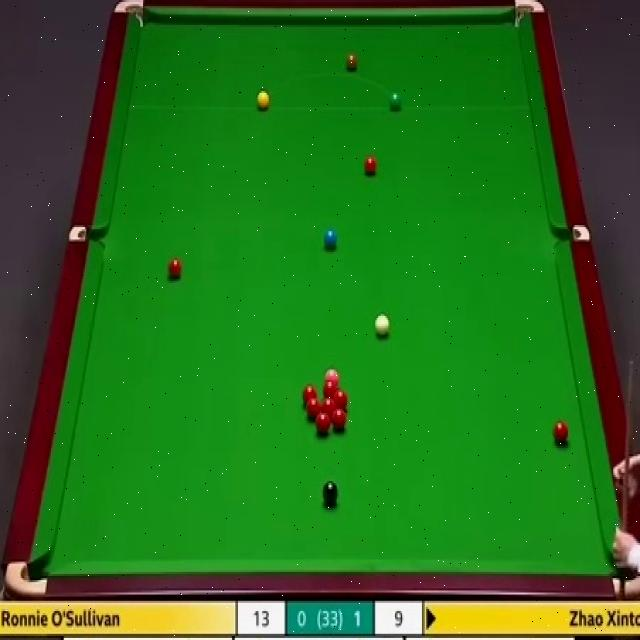black-ball: (321, 479, 338, 508)
blue-ball: (324, 228, 337, 250)
brown-ball: (345, 52, 359, 73)
green-ball: (388, 92, 403, 114)
pink-ball: (324, 367, 340, 380)
red-ball: (552, 420, 569, 447), (332, 409, 346, 434), (167, 258, 182, 281), (316, 412, 331, 434), (302, 385, 317, 406), (320, 396, 336, 414), (323, 380, 339, 398), (306, 399, 321, 418), (334, 389, 346, 412), (364, 155, 377, 175), (256, 532, 256, 533)
white-ball: (373, 313, 392, 340)
yellow-ball: (256, 90, 270, 111)
